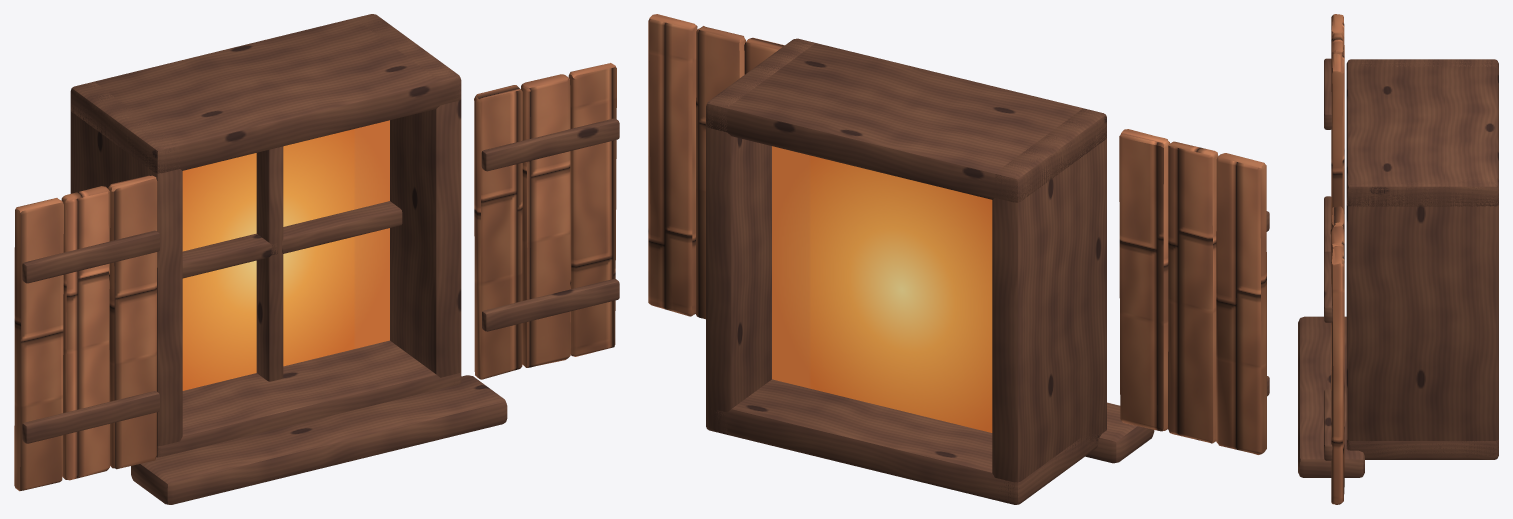
The model's file is window_cottage.gltf.
3 renders of one model, left to right at view 1: azimuth 30°, elevation 25°; view 2: azimuth 150°, elevation 25°; view 3: azimuth 270°, elevation 25°, orthographic. The views are drawn at different scales.
Visible parts, largest first — view 1: window_cottage_mesh, INT_shutter_L, INT_shutter_R; view 2: window_cottage_mesh, INT_shutter_L, INT_shutter_R; view 3: window_cottage_mesh, INT_shutter_R, INT_shutter_L.
Part boxes in pixels (left/top/right/bottom): window_cottage_mesh: left=70, top=14, right=507, bottom=504; INT_shutter_L: left=14, top=175, right=159, bottom=491; INT_shutter_R: left=474, top=63, right=619, bottom=379; window_cottage_mesh: left=706, top=38, right=1154, bottom=504; INT_shutter_L: left=1119, top=129, right=1269, bottom=454; INT_shutter_R: left=648, top=14, right=784, bottom=319; window_cottage_mesh: left=1298, top=59, right=1498, bottom=477; INT_shutter_R: left=1324, top=206, right=1344, bottom=504; INT_shutter_L: left=1324, top=14, right=1344, bottom=252.
Size of the model in its own units: 1.96 by 1.04 by 0.66.
Materials: 3 (3 with a texture image).
